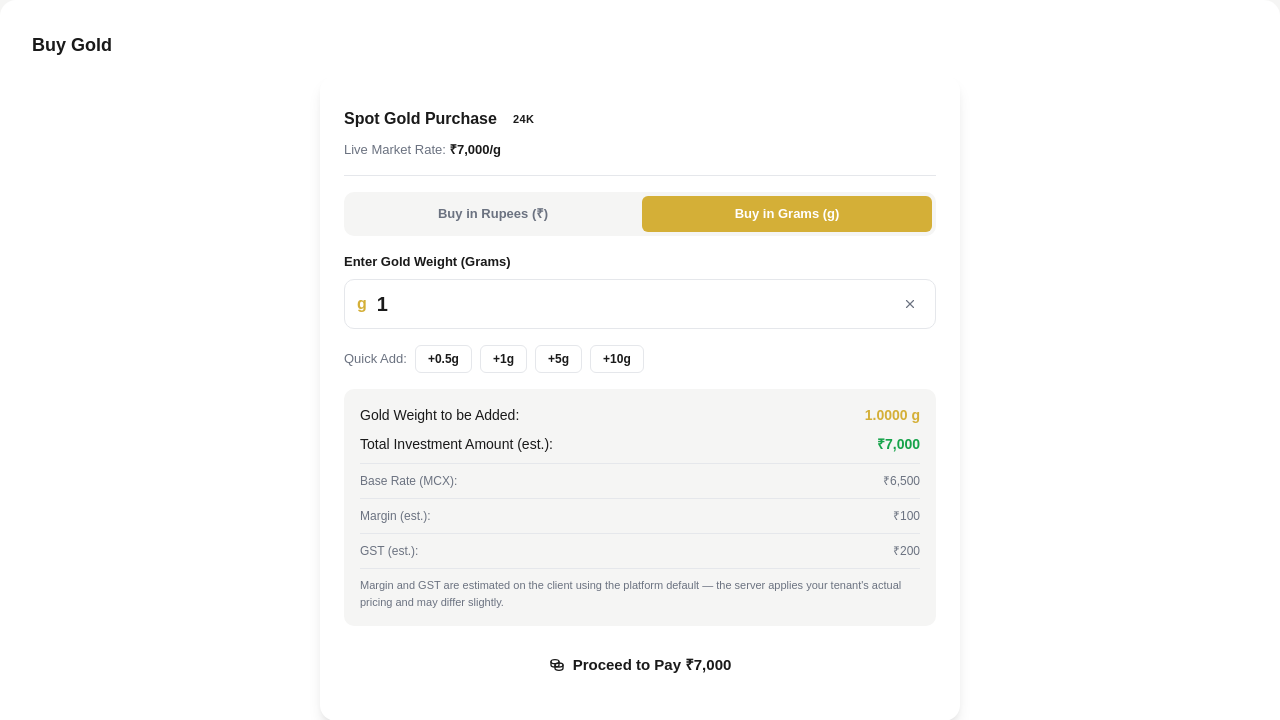
Test: BuyGold › entering an amount › switches to rupees and mirrors the weight as an amount
Click the button "Buy in Rupees (₹)".
click(493, 214)  # box x1=348 y1=196 x2=638 y2=232
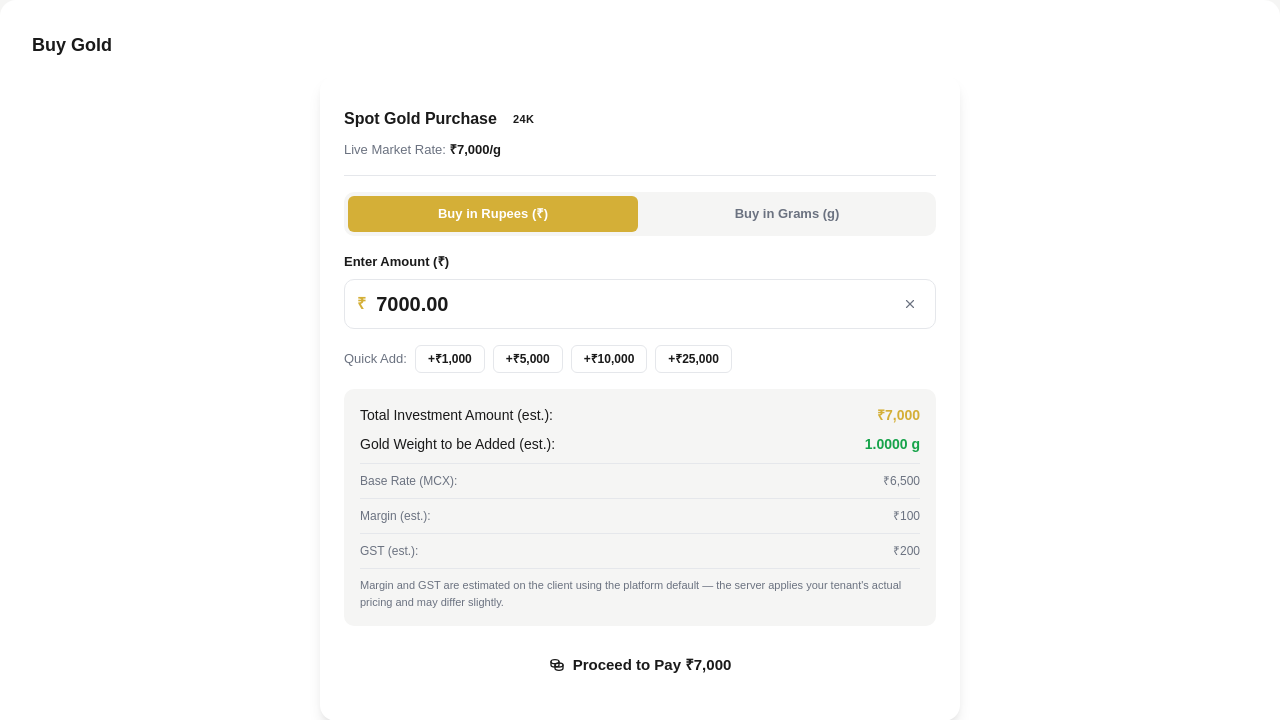
Result: the field labelled "Enter Amount (₹)" holds "7000.00" at x1=374 y1=288 x2=889 y2=320
